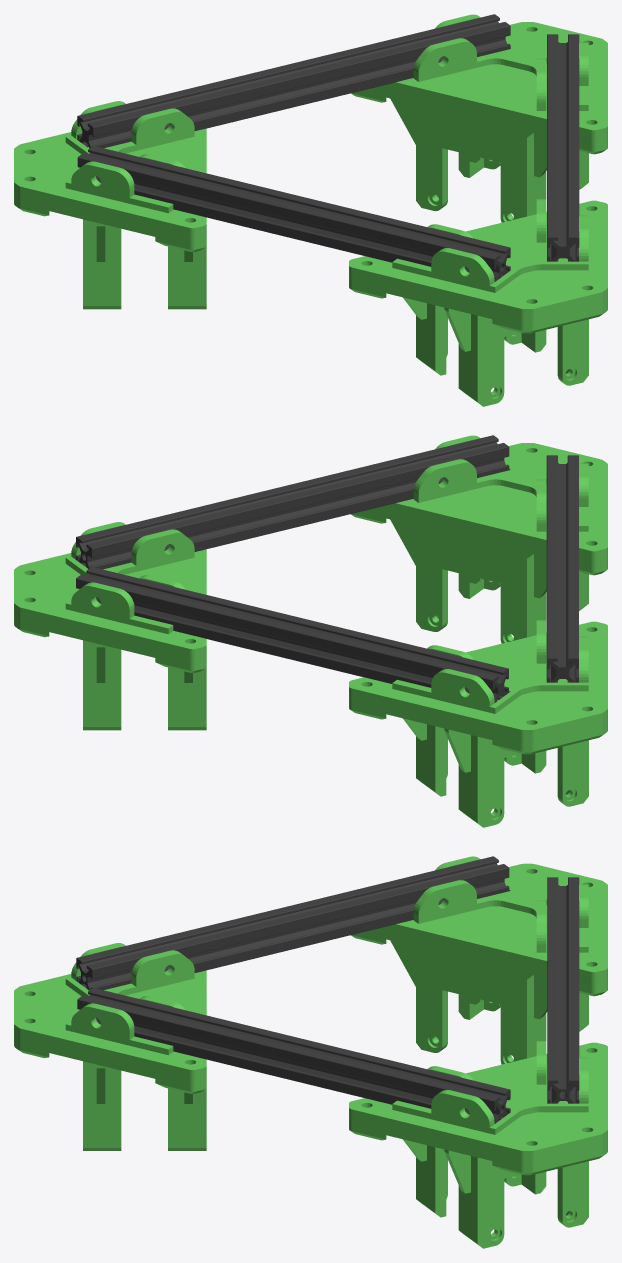
3 views of the same model, one above another, from view 1: azimuth 30°, elevation 25°; view 2: azimuth 150°, elevation 25°; view 3: azimuth 270°, elevation 25° (orthographic).
Parts seen in each view (by area): view 1: Base; view 2: Base; view 3: Base.
Part boxes in pixels (x1,y1,x2,y2): Base: [14, 14, 607, 406]; Base: [14, 435, 607, 827]; Base: [14, 856, 607, 1248].
Bounding box in the file's own units: 2.12 × 1.85 × 0.51.
